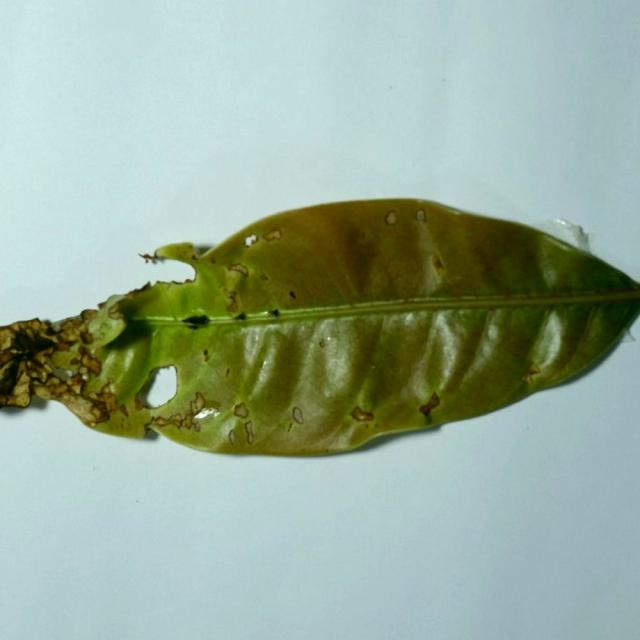Anthracnose: (255, 212, 472, 424), (221, 228, 302, 313), (447, 229, 526, 289), (207, 400, 262, 442), (100, 320, 152, 358), (535, 218, 586, 250), (251, 340, 276, 393), (1, 358, 26, 399), (116, 278, 155, 302), (241, 227, 283, 248), (381, 208, 424, 228), (88, 314, 117, 343), (46, 376, 79, 400), (560, 287, 631, 298), (149, 412, 187, 430), (287, 404, 309, 435), (79, 351, 102, 374), (181, 314, 211, 330), (224, 289, 240, 314), (189, 392, 206, 415), (88, 409, 111, 425), (107, 299, 125, 319), (227, 263, 249, 277), (143, 416, 159, 435), (137, 252, 162, 264), (0, 330, 13, 353), (33, 352, 52, 367), (201, 398, 221, 412), (80, 309, 98, 323), (133, 396, 148, 411), (101, 380, 116, 395), (79, 331, 95, 345), (622, 326, 636, 342), (54, 340, 73, 351), (433, 255, 445, 272), (443, 204, 463, 214), (118, 404, 129, 418), (45, 324, 59, 335), (399, 297, 415, 304), (203, 349, 211, 362), (69, 357, 80, 366), (184, 276, 194, 284), (287, 422, 293, 433), (348, 301, 357, 308), (225, 367, 231, 377), (191, 254, 199, 260), (90, 421, 97, 427)
Mango: (0, 198, 639, 460)
